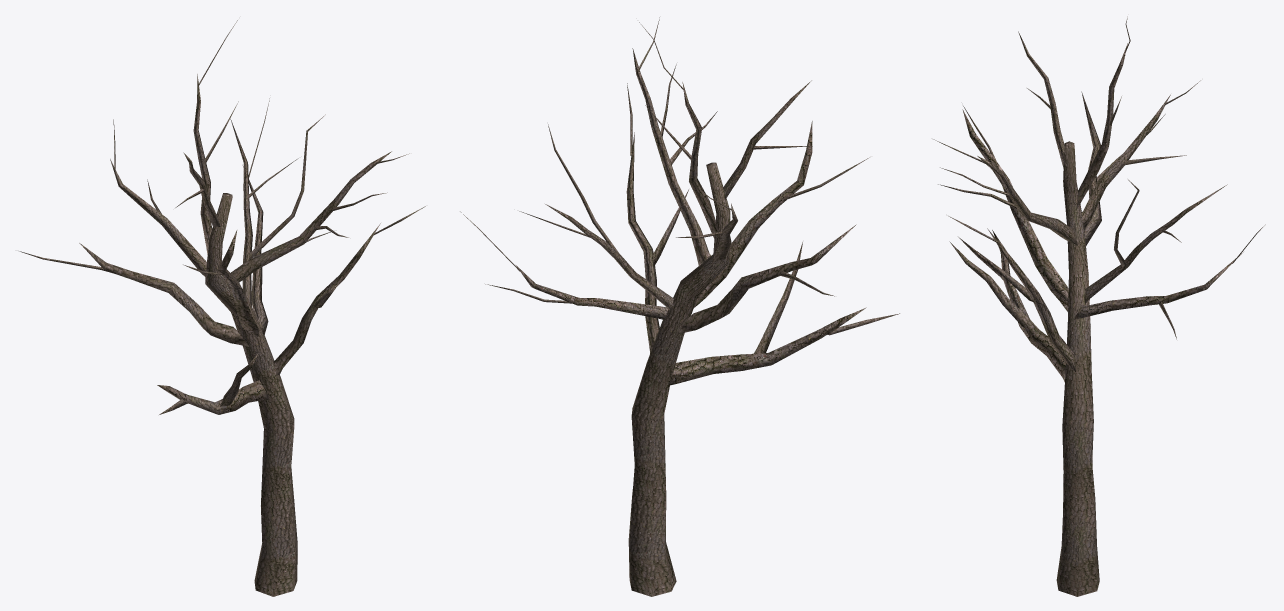
The model's file is 1003_Tree_01b_trunk.FBX.
3 views of the same model, side by side, from view 1: azimuth 30°, elevation 25°; view 2: azimuth 150°, elevation 25°; view 3: azimuth 270°, elevation 25° (orthographic). The views are drawn at different scales.
Parts seen in each view (by area): view 1: 1003_tree_01b_trunk; view 2: 1003_tree_01b_trunk; view 3: 1003_tree_01b_trunk.
Boxes of the visible parts, box(x1,y1,x2,y2) form: 1003_tree_01b_trunk: box(19, 20, 425, 596); 1003_tree_01b_trunk: box(460, 17, 899, 596); 1003_tree_01b_trunk: box(933, 16, 1265, 596).
Size of the model in its own units: 667 by 1082 by 587.
